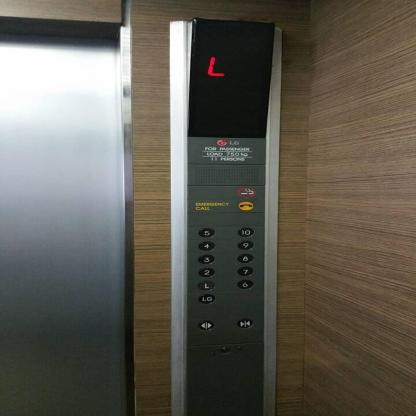10: (235, 226, 254, 237)
2: (196, 267, 215, 277)
3: (197, 254, 216, 264)
4: (197, 240, 216, 251)
5: (197, 227, 216, 238)
6: (236, 279, 254, 290)
7: (236, 265, 254, 276)
8: (236, 252, 254, 263)
9: (236, 239, 254, 250)
L: (197, 280, 216, 291)
LG: (196, 293, 215, 304)
call: (237, 200, 254, 211)
close: (235, 318, 253, 328)
led: (185, 17, 275, 137)
open: (197, 320, 215, 330)
